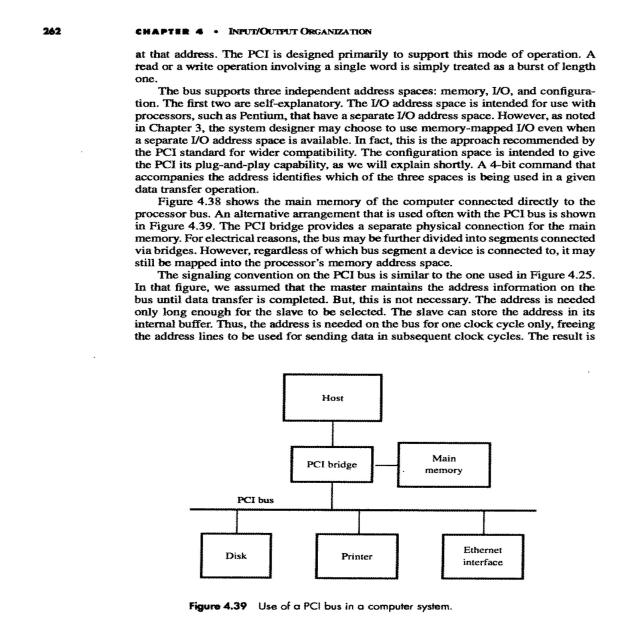diagram: (92, 360, 600, 638)
